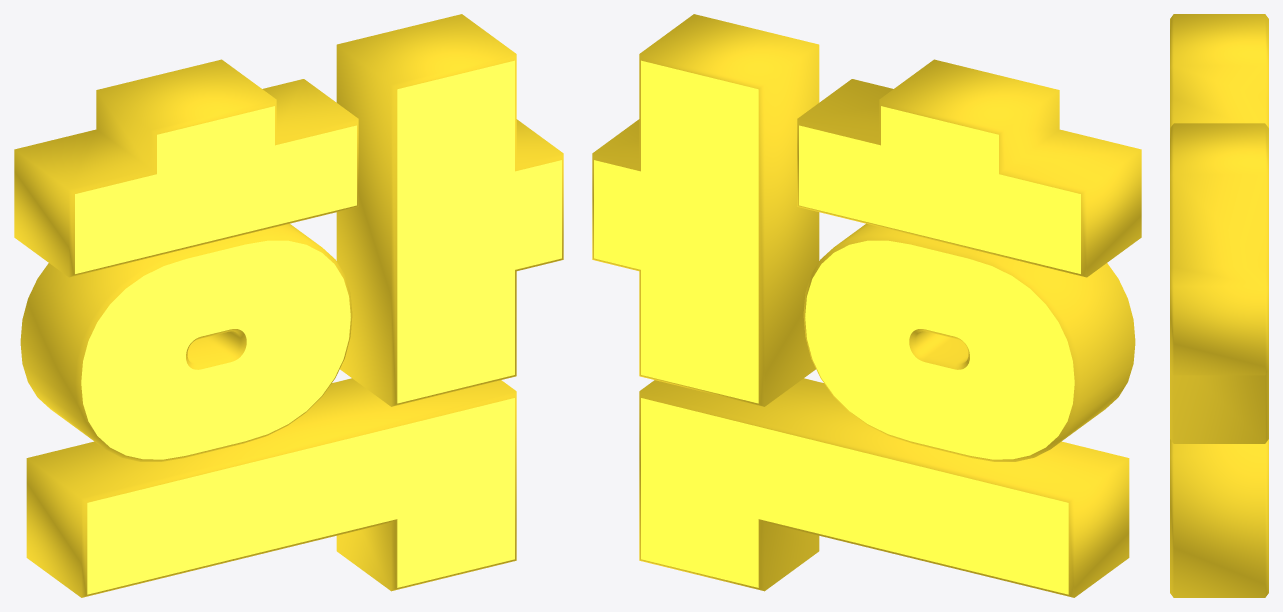
3 renders of one model, left to right at view 1: azimuth 30°, elevation 25°; view 2: azimuth 150°, elevation 25°; view 3: azimuth 270°, elevation 25°, orthographic. The views are drawn at different scales.
Visible parts, largest first — view 1: glyph; view 2: glyph; view 3: glyph.
Part boxes in pixels (x1,y1,x2,y2): glyph: [14, 14, 563, 597]; glyph: [592, 14, 1141, 597]; glyph: [1170, 14, 1268, 597].
Bounding box in the file's own units: 0.0783 × 0.0786 × 0.0162.
